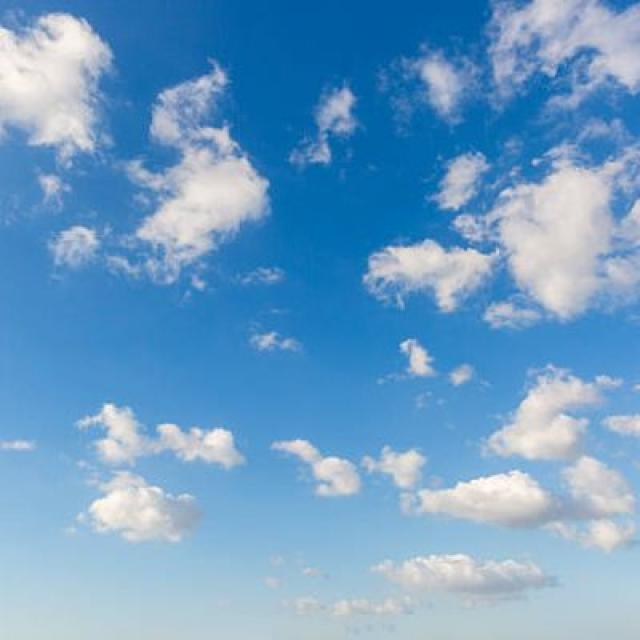Cc: (1, 35, 640, 524)
